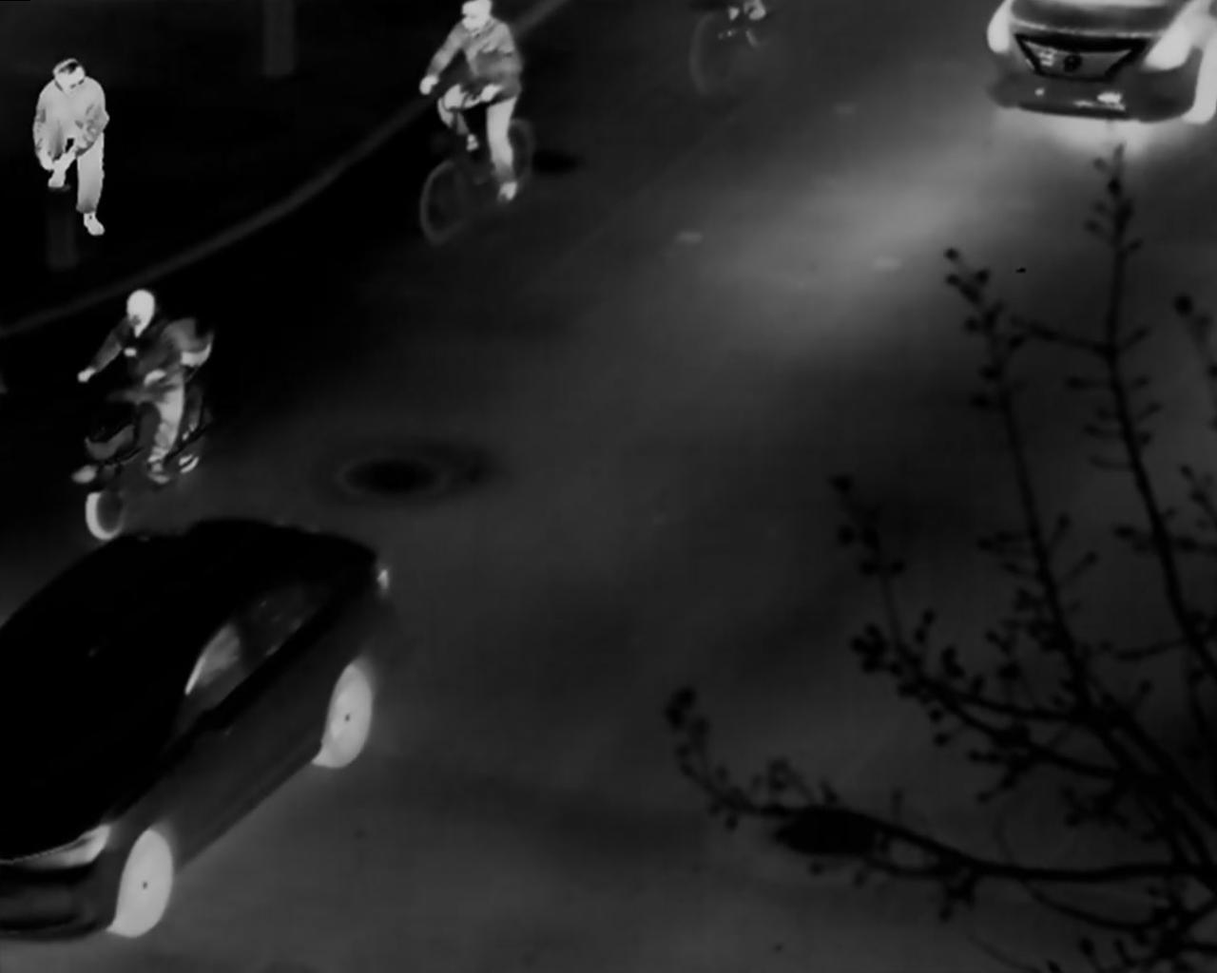person: (75, 283, 184, 487), (31, 56, 111, 238)
